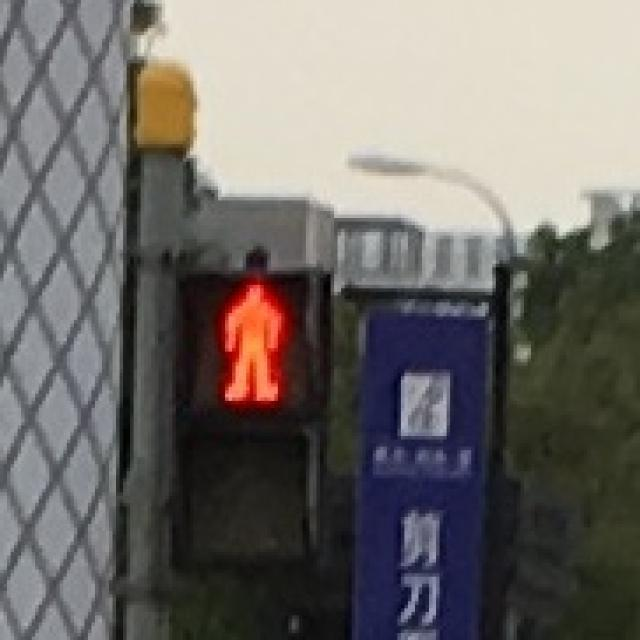red-crossing: (190, 269, 303, 413)
